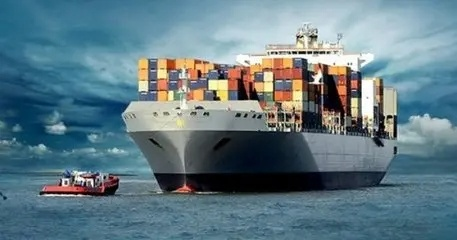Cargoship: (122, 18, 399, 188)
otherboat: (33, 162, 121, 196)
